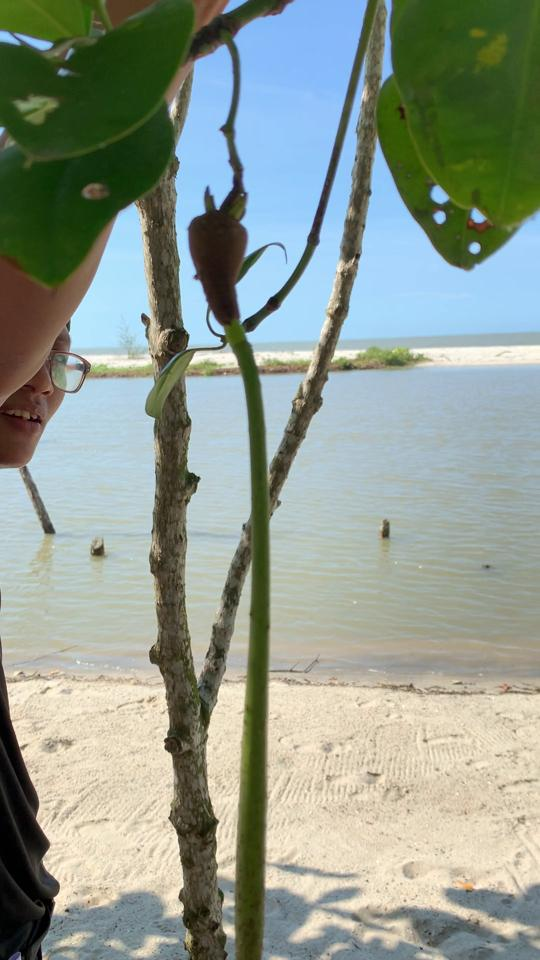setengah matang: (182, 186, 279, 958)
